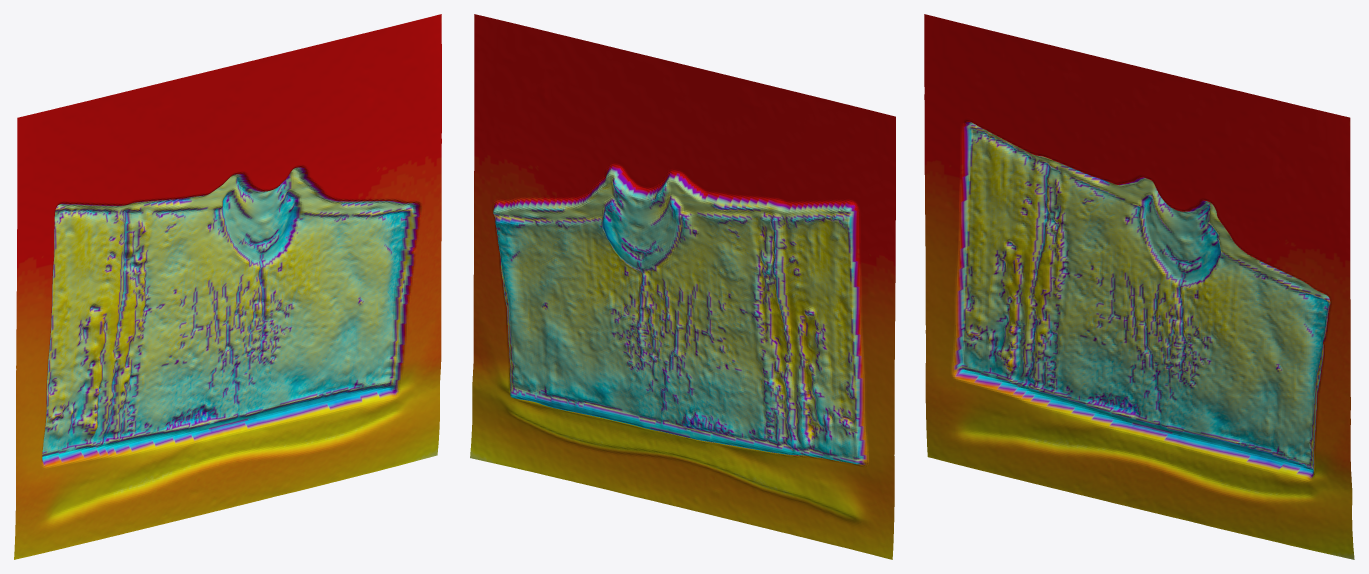
3 views of the same model, side by side, from view 1: azimuth 30°, elevation 25°; view 2: azimuth 150°, elevation 25°; view 3: azimuth 330°, elevation 25° (orthographic).
Visible parts, largest first — view 1: world; view 2: world; view 3: world.
Part boxes in pixels (x1,y1,x2,y2): world: [14, 14, 441, 559]; world: [470, 14, 895, 559]; world: [924, 14, 1354, 559].
Size of the model in its own units: 299 by 299 by 12.
